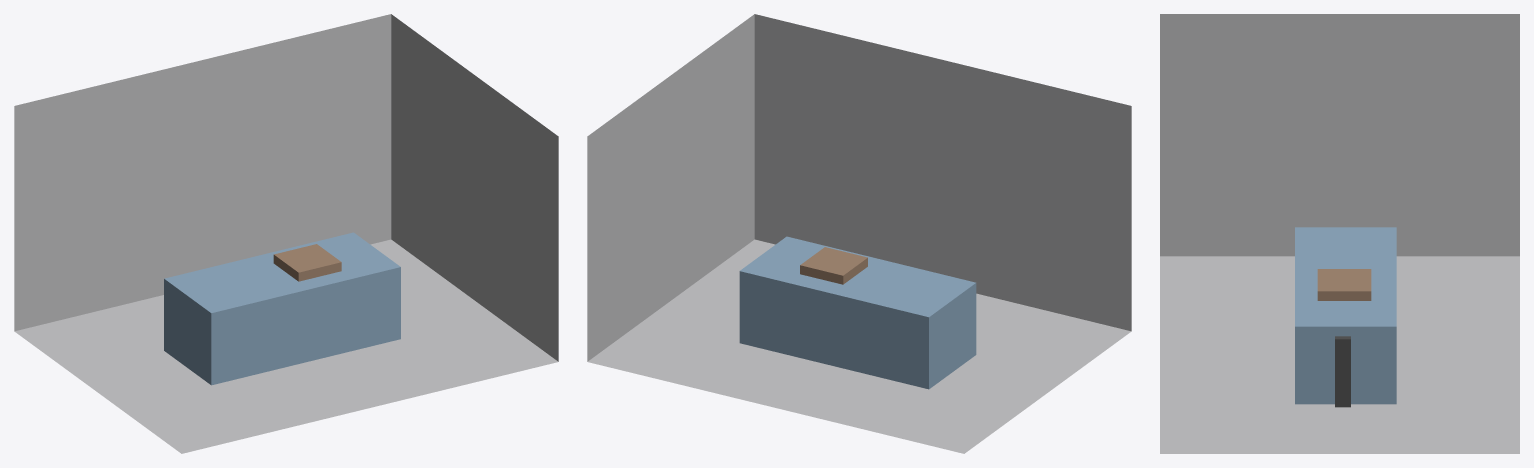
Rendered from current_layout (1).glb.
3 views of the same model, side by side, from view 1: azimuth 30°, elevation 25°; view 2: azimuth 150°, elevation 25°; view 3: azimuth 270°, elevation 25° (orthographic). The views are drawn at different scales.
Visible parts, largest first — view 1: room, couch, chair; view 2: room, couch, chair; view 3: room, couch, chair, tv.
Part boxes in pixels (x1=…): room: x1=14, y1=14, x2=558, y2=453; couch: x1=164, y1=232, x2=400, y2=385; chair: x1=273, y1=244, x2=341, y2=281; room: x1=587, y1=14, x2=1131, y2=453; couch: x1=739, y1=236, x2=976, y2=389; chair: x1=800, y1=247, x2=867, y2=284; room: x1=1160, y1=14, x2=1519, y2=453; couch: x1=1295, y1=227, x2=1396, y2=404; chair: x1=1317, y1=269, x2=1371, y2=300; tv: x1=1335, y1=336, x2=1350, y2=407.
Bounding box in the file's own units: 4.37 × 2.5 × 3.36.
